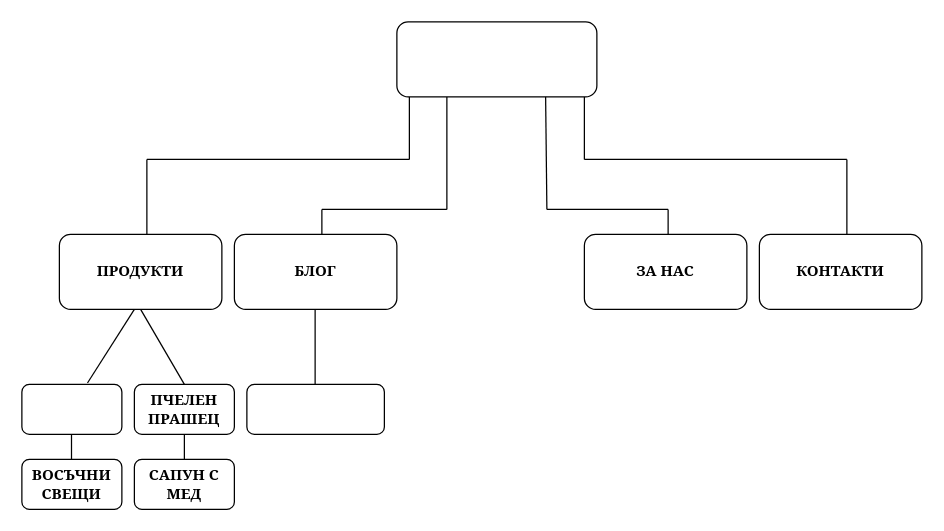
Image size: 944x531. Some labels were removed from this diagram. The shapes that lost their labels are listed below. From the top down, each one's centre as x and y in pixels, then its label:
the point at 496,59: НАЧАЛО
the point at 71,408: МЕД
the point at 315,408: ПУБЛИЦАЦИИ
